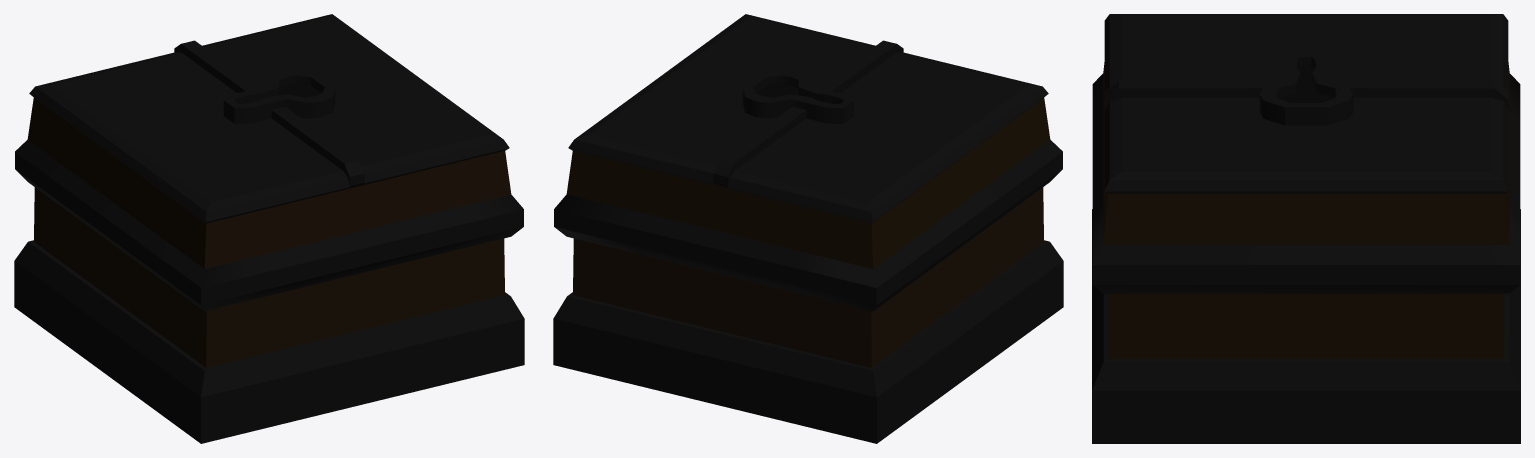
The model's file is FullMesh.fbx.
The picture shows the model from 3 angles, left to right: view 1: azimuth 30°, elevation 25°; view 2: azimuth 150°, elevation 25°; view 3: azimuth 270°, elevation 25°; orthographic projection. The views are drawn at different scales.
Visible parts, largest first — view 1: group1; view 2: group1; view 3: group1.
Part boxes in pixels (x1,y1,x2,y2): group1: (14,14,524,443); group1: (553,14,1063,443); group1: (1092,14,1520,443).
Size of the model in its own units: 2 by 1.43 by 2.
